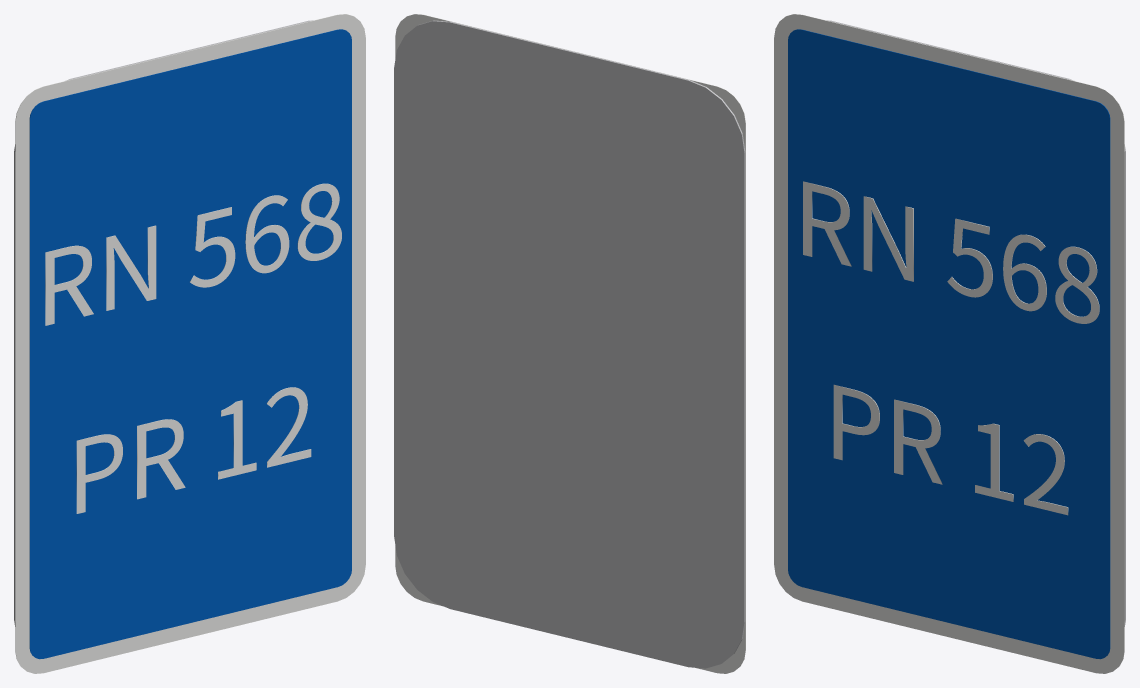
3 views of the same model, side by side, from view 1: azimuth 30°, elevation 25°; view 2: azimuth 150°, elevation 25°; view 3: azimuth 330°, elevation 25° (orthographic).
Parts seen in each view (by area): view 1: E57a_fond01, E57a_cadre00, E57a_txt02, E57a_txt03, E57a_dos; view 2: E57a_dos, E57a_cadre00; view 3: E57a_fond01, E57a_cadre00, E57a_txt02, E57a_txt03, E57a_dos.
Part boxes in pixels (x1=…): E57a_fond01: x1=29, y1=29, x2=351, y2=659; E57a_cadre00: x1=15, y1=14, x2=365, y2=673; E57a_txt02: x1=45, y1=183, x2=341, y2=325; E57a_txt03: x1=76, y1=387, x2=311, y2=513; E57a_dos: x1=14, y1=20, x2=313, y2=626; E57a_dos: x1=394, y1=20, x2=745, y2=668; E57a_cadre00: x1=395, y1=14, x2=745, y2=673; E57a_fond01: x1=788, y1=29, x2=1110, y2=659; E57a_cadre00: x1=774, y1=14, x2=1124, y2=673; E57a_txt02: x1=803, y1=181, x2=1099, y2=323; E57a_txt03: x1=833, y1=384, x2=1068, y2=515; E57a_dos: x1=826, y1=20, x2=1125, y2=626.
Size of the model in its own units: 0.25 by 0.4 by 0.0029.
